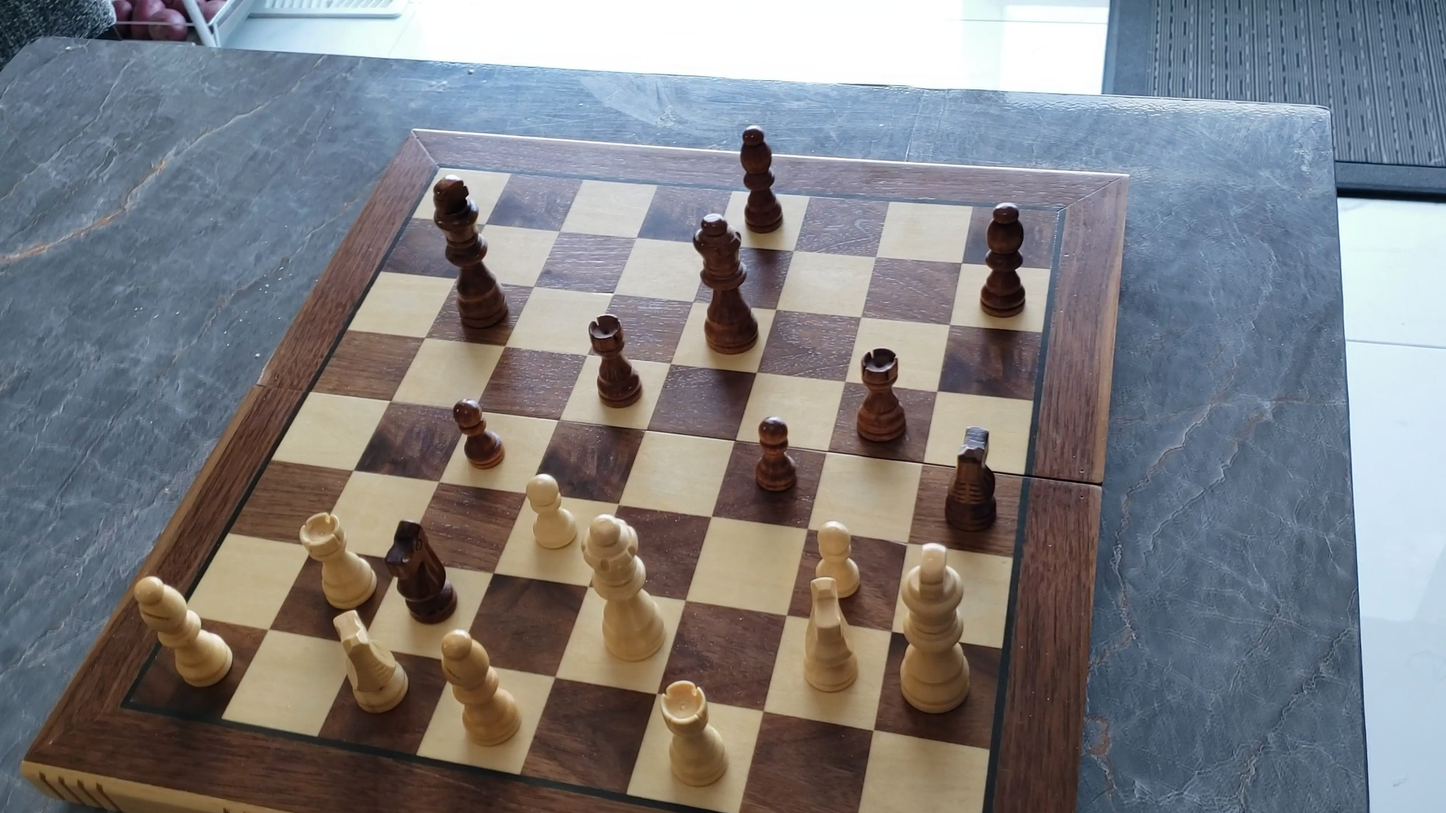black-bishop: (969, 192, 1039, 333), (729, 122, 789, 237)
black-king: (423, 172, 520, 345)
black-knight: (384, 518, 460, 624), (943, 424, 999, 534)
black-pawn: (448, 396, 507, 471), (752, 412, 799, 495)
black-queen: (690, 208, 760, 355)
black-rook: (586, 312, 644, 408), (854, 346, 908, 445)
white-bishop: (127, 572, 238, 692), (433, 627, 525, 750)
white-king: (891, 537, 979, 726)
white-knight: (328, 609, 413, 718), (798, 574, 863, 696)
white-pawn: (521, 469, 581, 553), (809, 517, 865, 603)
white-queen: (575, 512, 671, 667)
white-rook: (295, 508, 378, 614), (655, 676, 731, 791)
